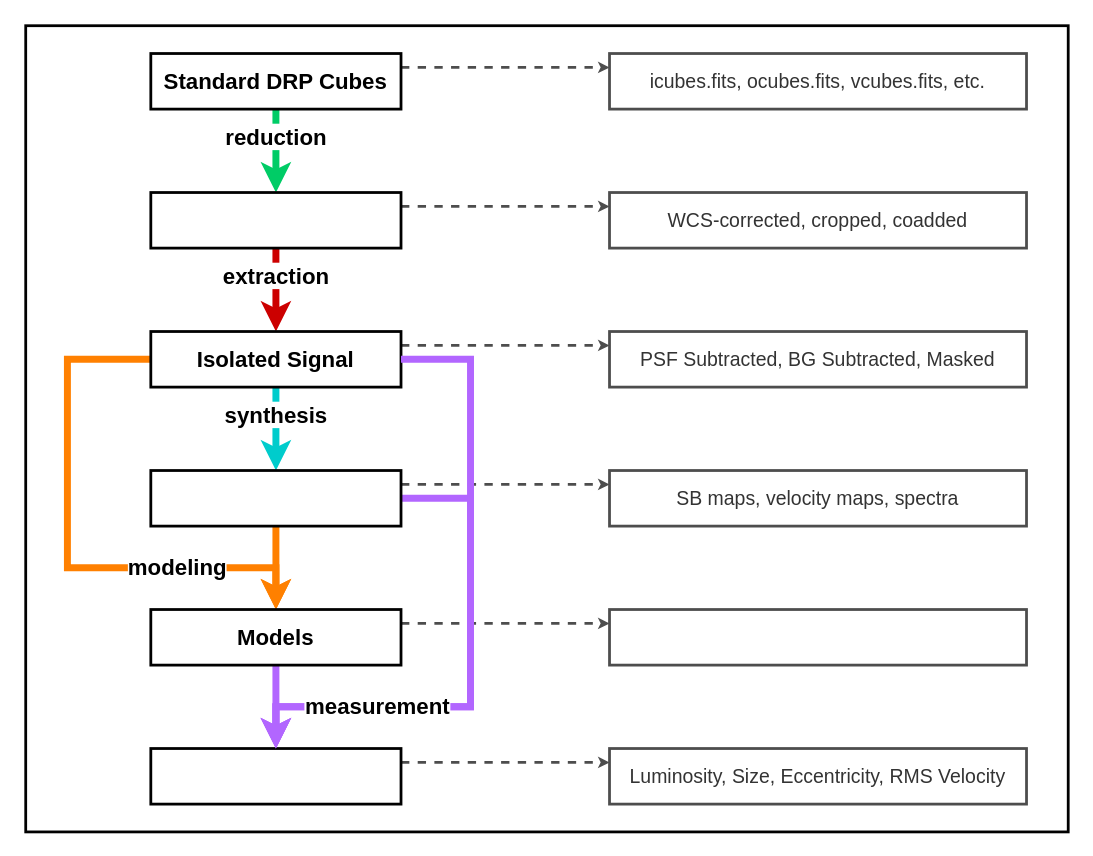
The diagram is 1093 pixels wide and 856 high, and some of its shapes have lost their labels. Each missing label, with the centre of its shape:
Corrected Data: point 275,219
Model parameters, modeled data, AIC/BIC: point 817,636
Science Products: point 275,497
Scientific Results: point 275,775
